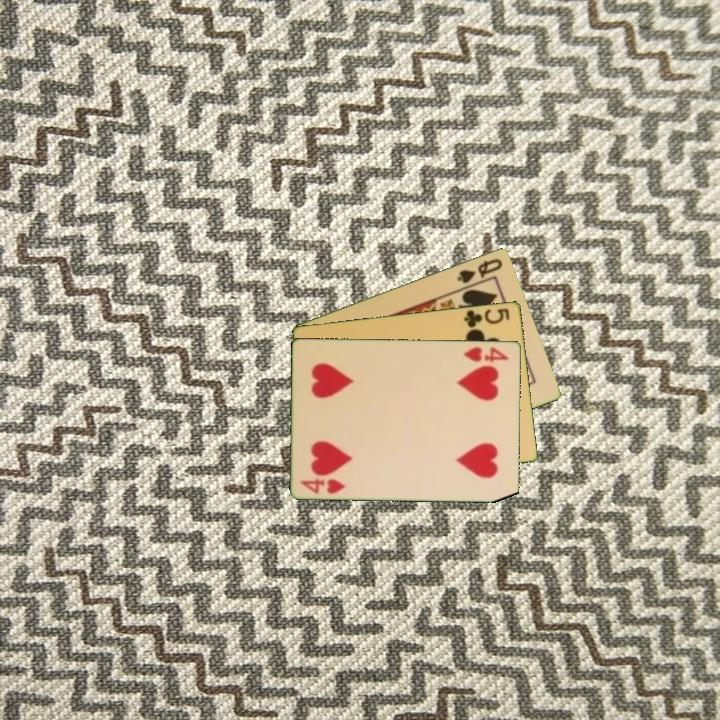4h: (461, 343, 511, 365), (297, 475, 348, 496)
5c: (460, 305, 513, 332)
Qs: (453, 255, 505, 286)
